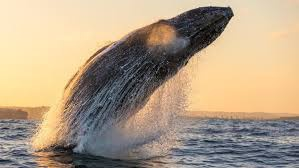humpback: (51, 7, 233, 146)
